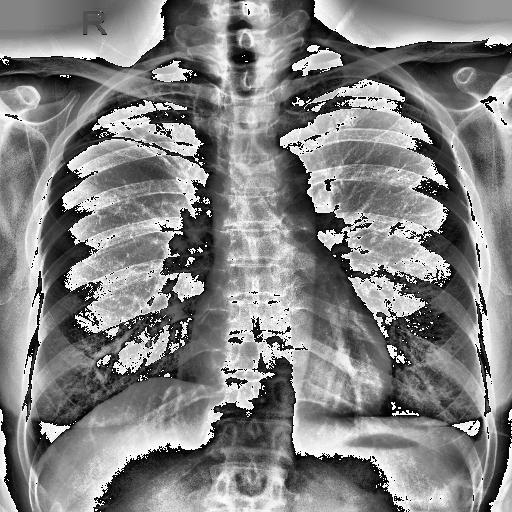11- Pleural thickening: (52, 130, 209, 184)
13- Pulmonary fibrosis: (82, 83, 214, 171), (76, 106, 200, 184)
